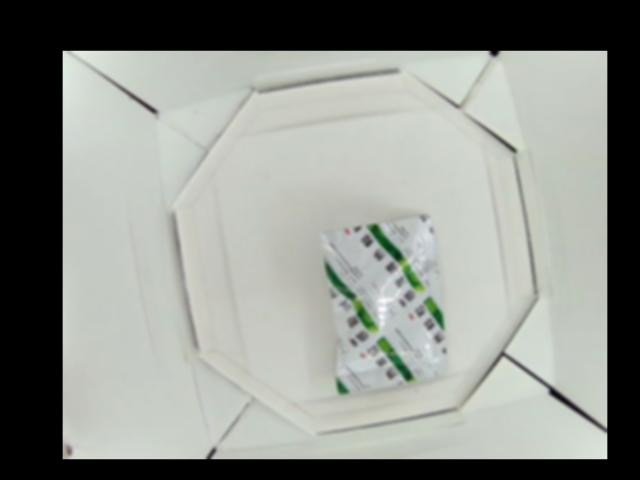Medicine: (320, 211, 451, 397)
